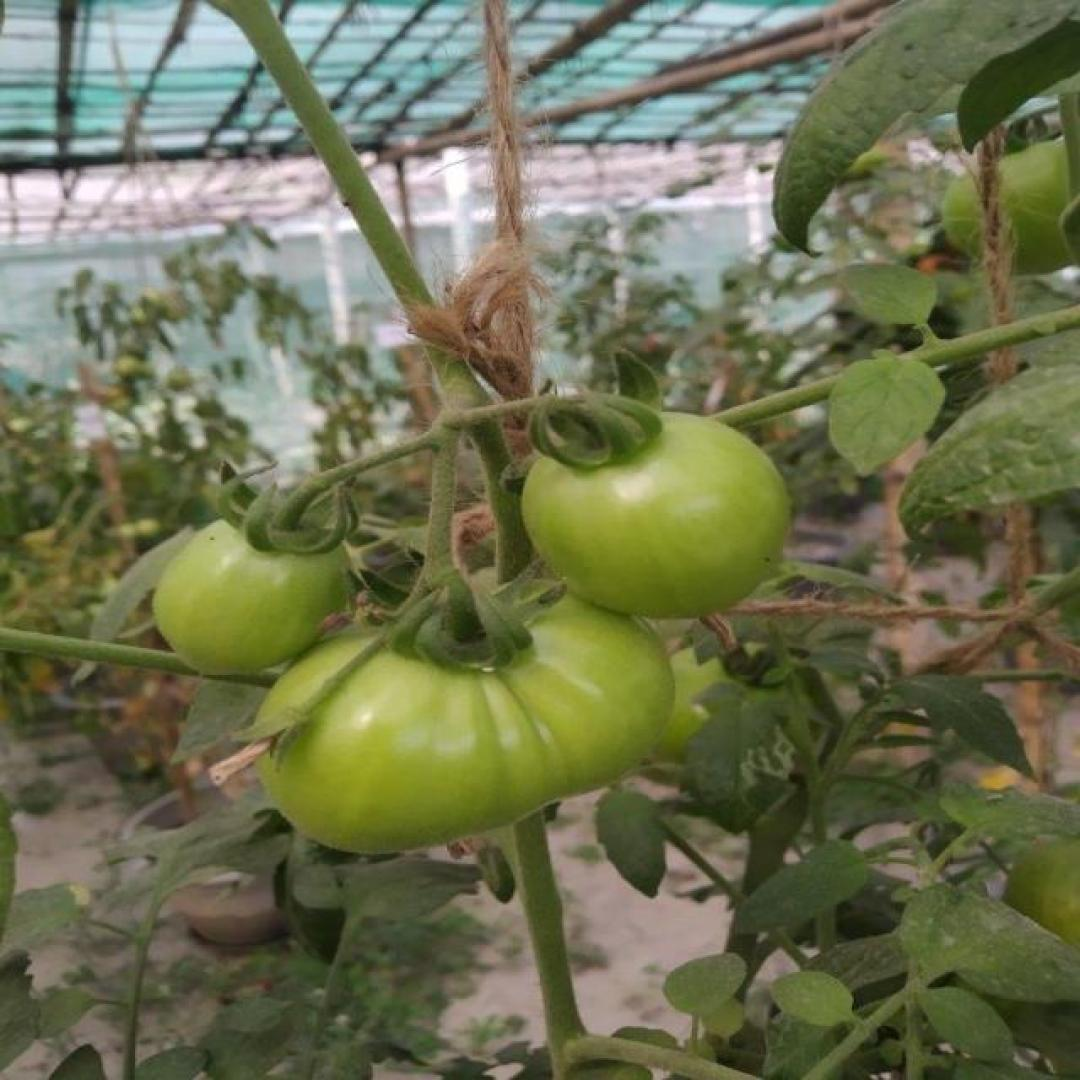mentah: (248, 576, 680, 858), (514, 407, 792, 619), (150, 508, 353, 673)
